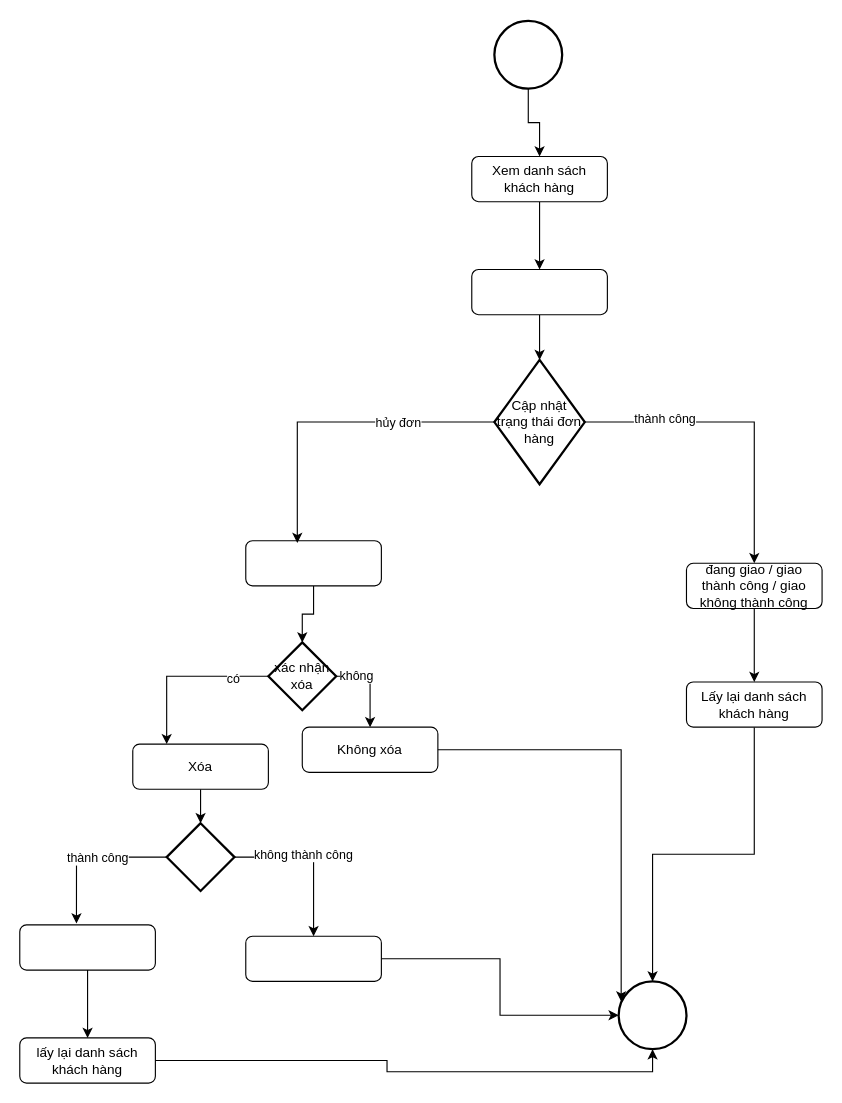
Some shapes in this 842 by 1103 pixel diagram are drawn without their labels. The shapes that lost their labels are listed below. From the top down, each one's centre as x and y in pixels, then its label:
At (539,291): "Xem chi tiết đơn hàng".
At (313,563): "Xóa đơn hàng".
At (87,947): "Thông báo thành công".
At (313,958): "thông báo lỗi".
